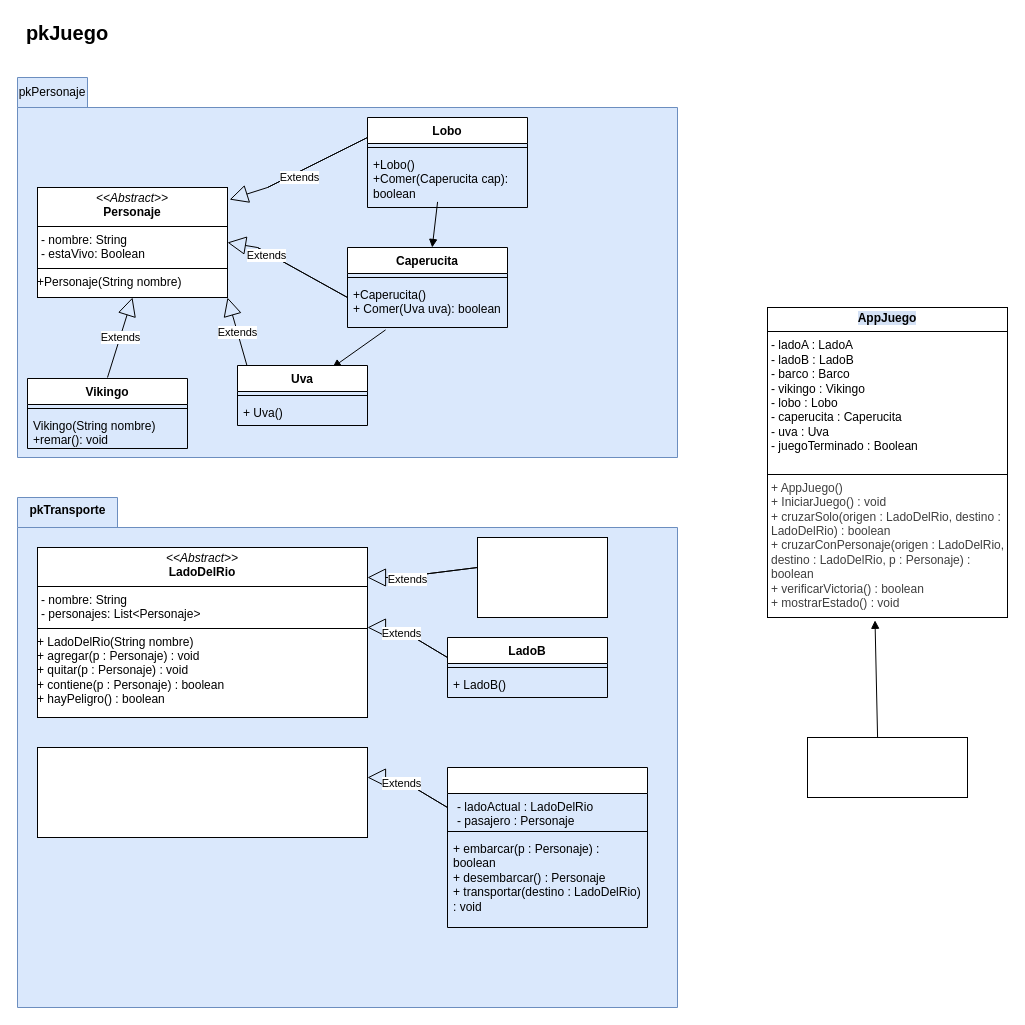
The diagram is 1025 pixels wide and 1025 high, and some of its shapes have lost their labels. Each missing label, with the box of its shape:
<<Abstract>> MedioTransporte: (36, 746, 368, 838)
App + main(String[]):void: (806, 736, 968, 798)
Barco: (446, 766, 648, 928)
LadoA + LadoA(): (476, 536, 608, 618)
